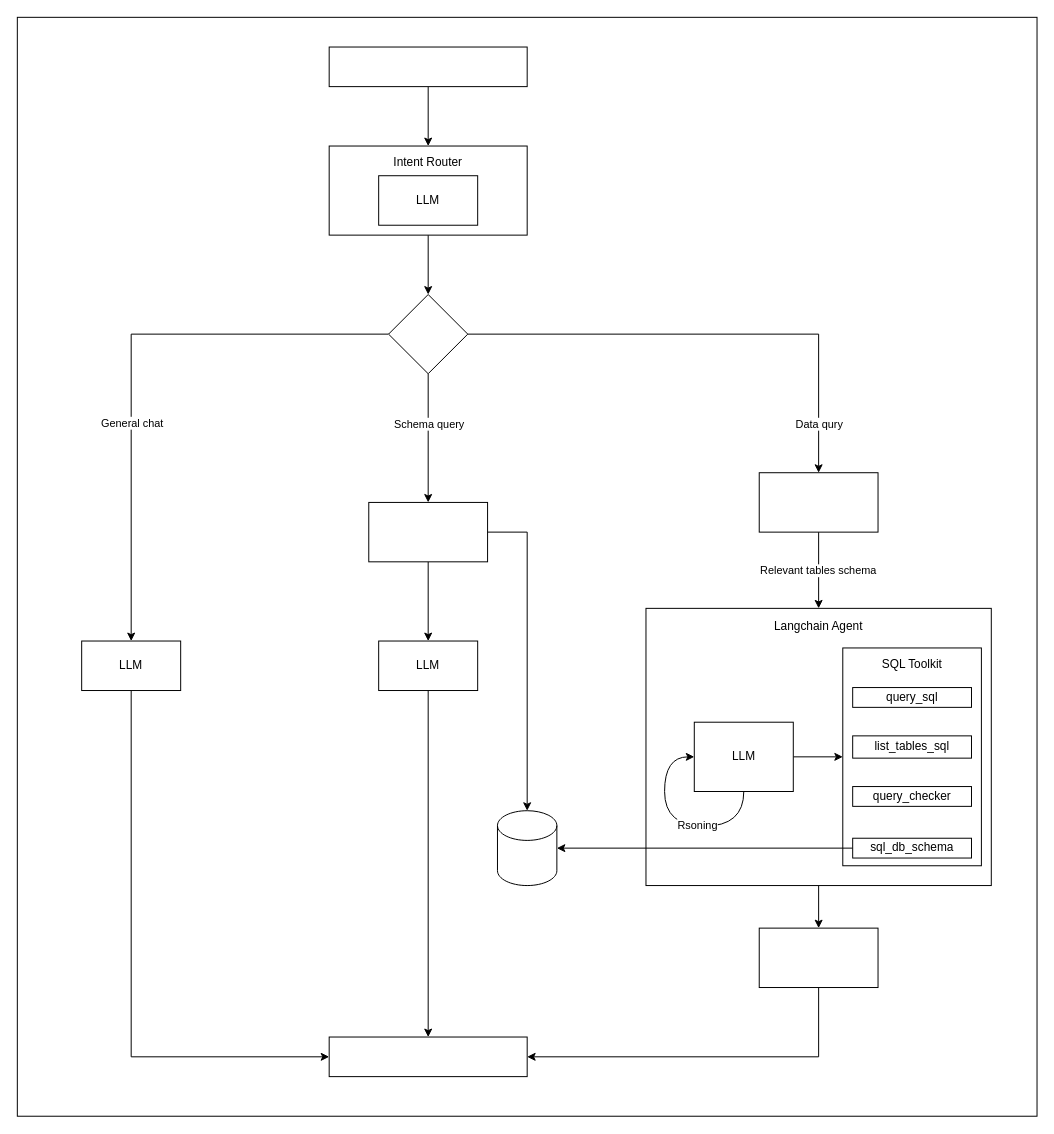
This 1054x1134 diagram has some shape labels left out. Each missing label, with the centre of its shape:
Final answer: the point at 427,1056
Results synthesir: the point at 818,957
Schema browser: the point at 428,531
Schema retriever: the point at 818,502
SQL DB: the point at 526,848
User Question: the point at 427,66
